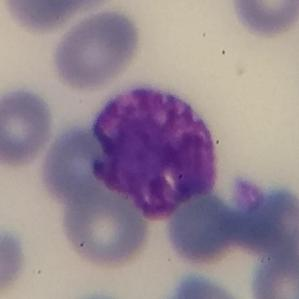Basophil: (76, 72, 230, 226)
Platelets: (229, 173, 265, 211)
RBC: (49, 7, 144, 91), (62, 186, 150, 272), (161, 188, 243, 264), (41, 124, 109, 206), (226, 188, 299, 258), (0, 85, 55, 168), (5, 0, 90, 34), (246, 245, 299, 298), (228, 0, 299, 39), (159, 269, 245, 299), (0, 226, 28, 297)
